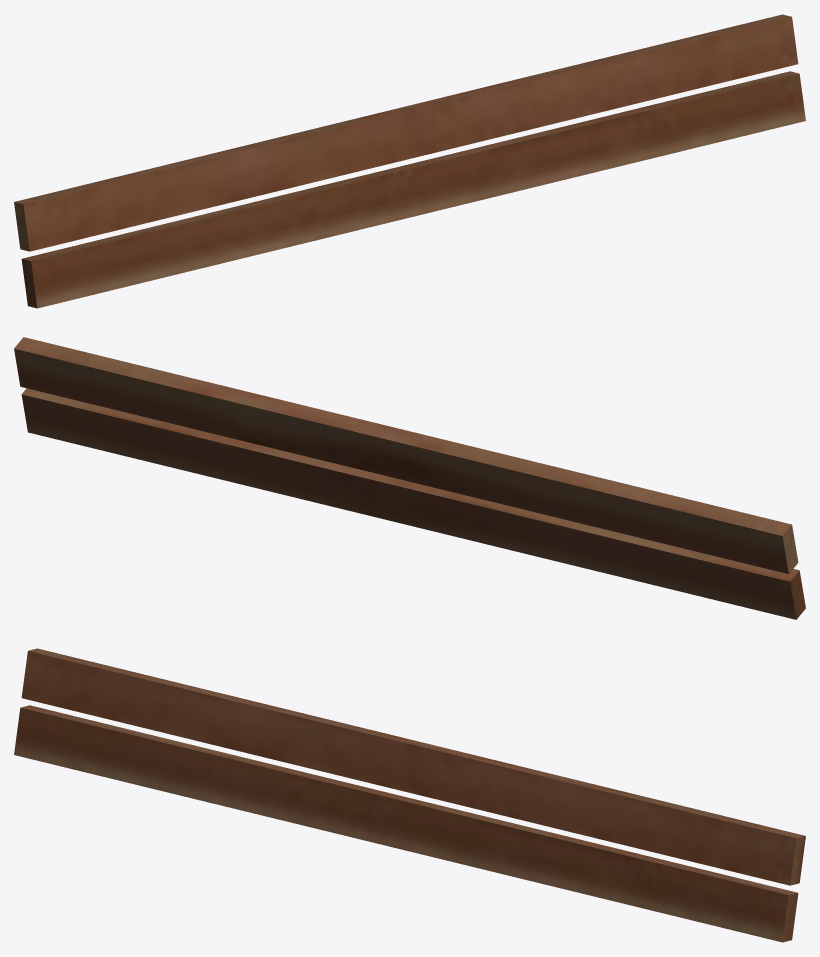
The model's file is BenchBackWood.fbx.
3 renders of one model, top to bottom at view 1: azimuth 30°, elevation 25°; view 2: azimuth 150°, elevation 25°; view 3: azimuth 330°, elevation 25°, orthographic.
Parts seen in each view (by area): view 1: bench 27.003; view 2: bench 27.003; view 3: bench 27.003.
Boxes of the visible parts, x1,y1,x2,y2 form: bench 27.003: (14, 14, 805, 308); bench 27.003: (14, 337, 805, 619); bench 27.003: (14, 648, 805, 942).
Bounding box in the file's own units: 9 × 1.1 × 0.475.
